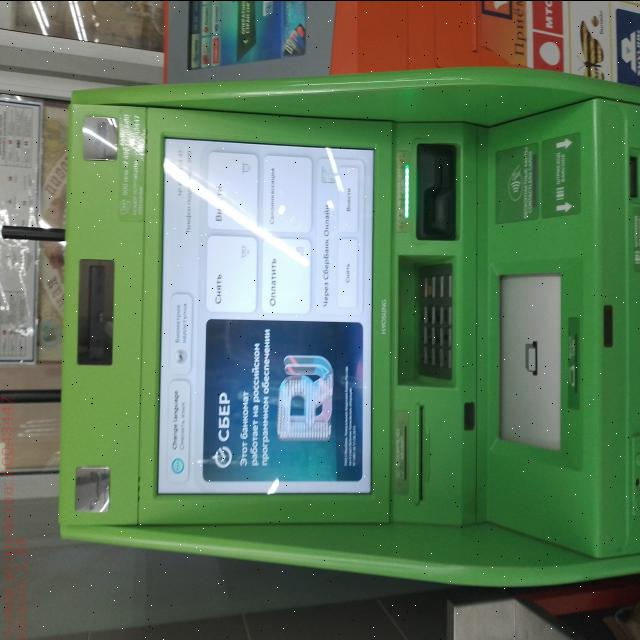bank: (50, 62, 640, 588)
